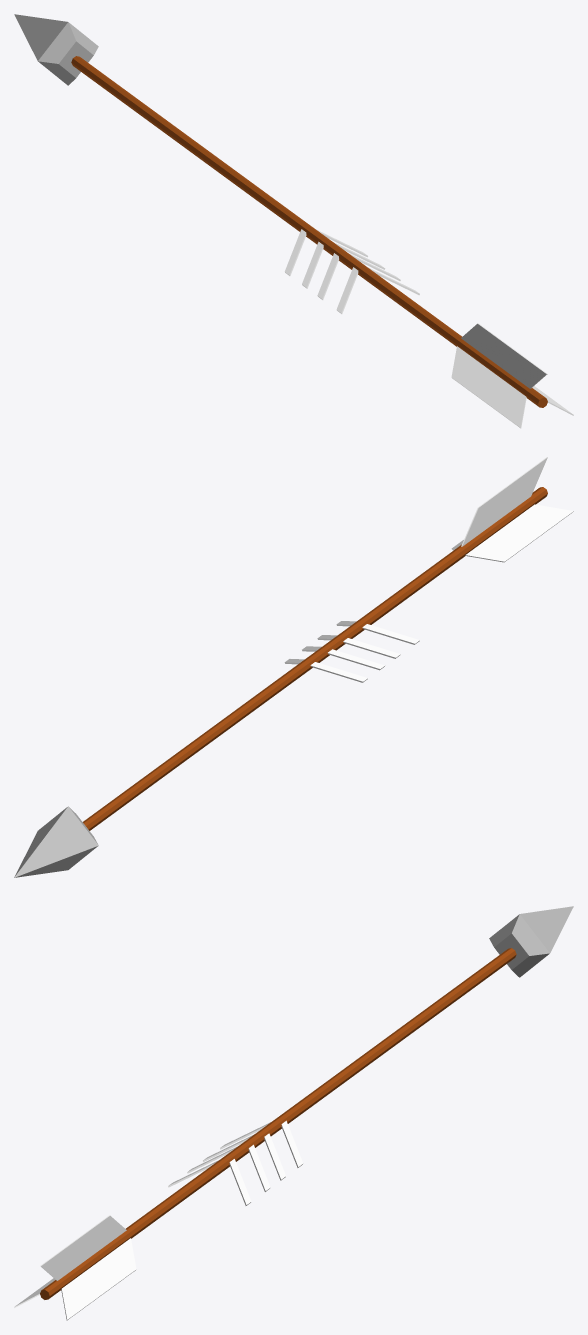
File: Arrow_01.fbx
3 renders of one model, top to bottom at view 1: azimuth 30°, elevation 25°; view 2: azimuth 150°, elevation 25°; view 3: azimuth 330°, elevation 25°, orthographic.
Parts seen in each view (by area): view 1: Arrow_01; view 2: Arrow_01; view 3: Arrow_01.
Boxes of the visible parts, x1=… form: Arrow_01: x1=14, y1=14, x2=573, y2=428; Arrow_01: x1=14, y1=457, x2=573, y2=877; Arrow_01: x1=14, y1=906, x2=573, y2=1320.
Size of the model in its own units: 9.19 by 7.13 by 108.
